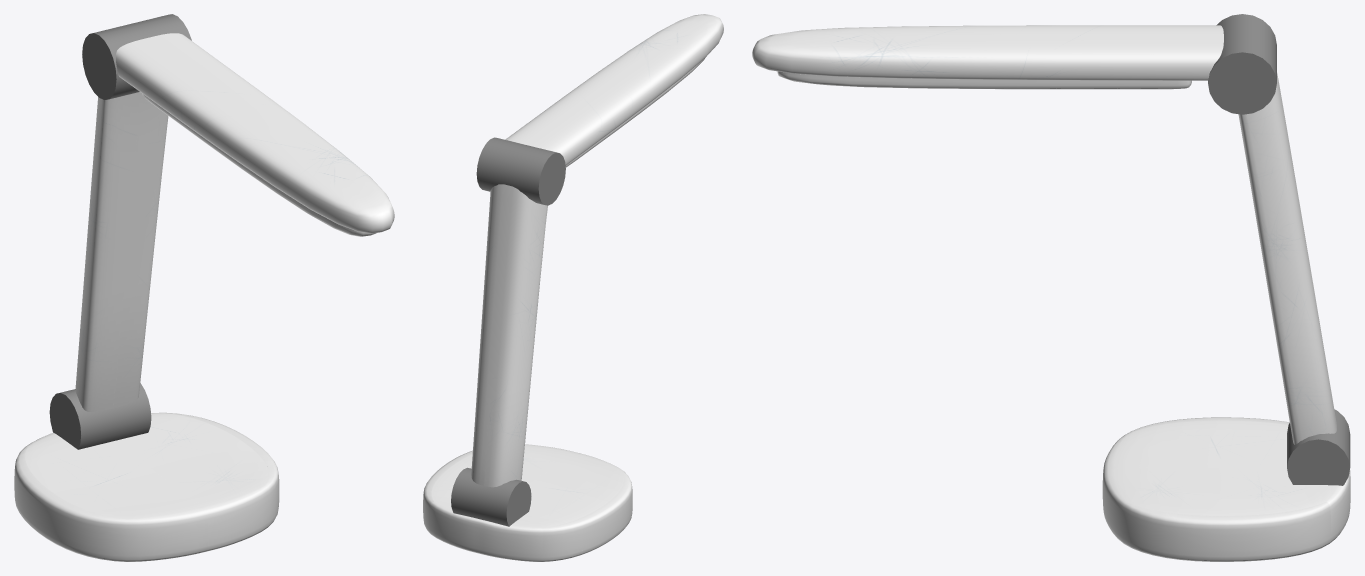
The model's file is Light_02.fbx.
The picture shows the model from 3 angles, left to right: view 1: azimuth 30°, elevation 25°; view 2: azimuth 150°, elevation 25°; view 3: azimuth 270°, elevation 25°; orthographic projection. The views are drawn at different scales.
Visible parts, largest first — view 1: dodai_OBJ, chuukan_OBJ, uplight_OBJ, joint1_OBJ, joint2_OBJ, light_OBJ; view 2: chuukan_OBJ, dodai_OBJ, uplight_OBJ, joint2_OBJ, joint1_OBJ, light_OBJ; view 3: dodai_OBJ, uplight_OBJ, chuukan_OBJ, joint2_OBJ, light_OBJ, joint1_OBJ.
Boxes of the visible parts, x1,y1,x2,y2 form: dodai_OBJ: [14, 412, 279, 561]; chuukan_OBJ: [75, 92, 168, 411]; uplight_OBJ: [116, 33, 394, 233]; joint1_OBJ: [49, 383, 151, 449]; joint2_OBJ: [82, 14, 191, 99]; light_OBJ: [142, 93, 376, 236]; chuukan_OBJ: [471, 184, 547, 487]; dodai_OBJ: [423, 444, 632, 561]; uplight_OBJ: [505, 14, 723, 165]; joint2_OBJ: [476, 137, 565, 205]; joint1_OBJ: [451, 467, 531, 526]; light_OBJ: [565, 58, 704, 167]; dodai_OBJ: [1102, 417, 1350, 561]; uplight_OBJ: [752, 25, 1223, 80]; chuukan_OBJ: [1238, 73, 1336, 444]; joint2_OBJ: [1208, 14, 1276, 114]; light_OBJ: [777, 71, 1191, 89]; joint1_OBJ: [1287, 409, 1350, 485].
Bounding box in the file's own units: 3.75 × 7.79 × 8.84.
5 materials, 3 textured.
